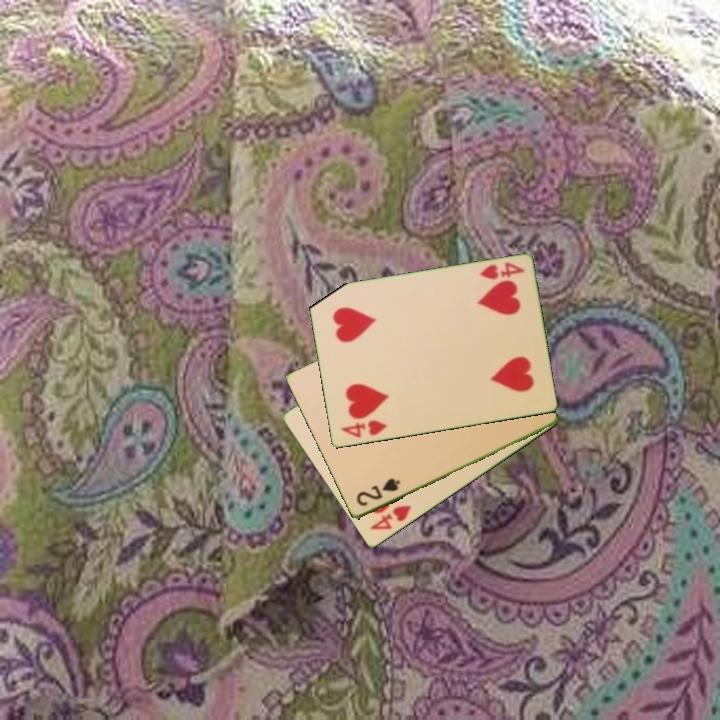2s: (353, 475, 403, 510)
4h: (366, 502, 414, 533), (338, 417, 390, 441), (476, 259, 527, 283)
